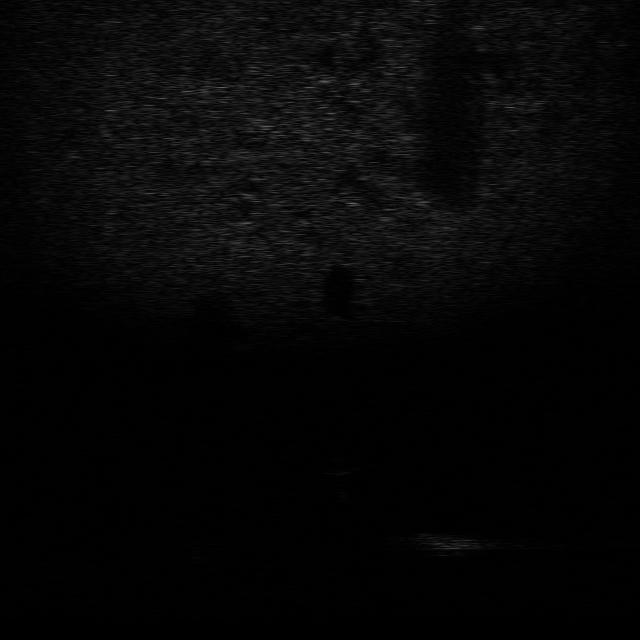ball: (319, 453, 359, 478)
metal bucket: (393, 523, 498, 557)
tyre: (188, 538, 238, 569)
